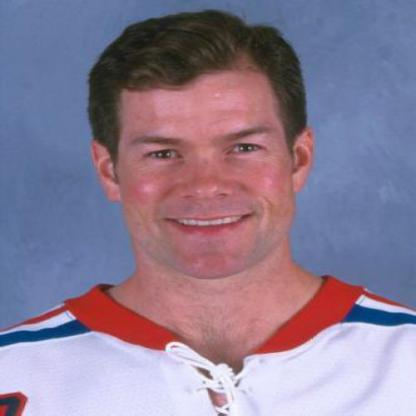face: (114, 21, 297, 281)
